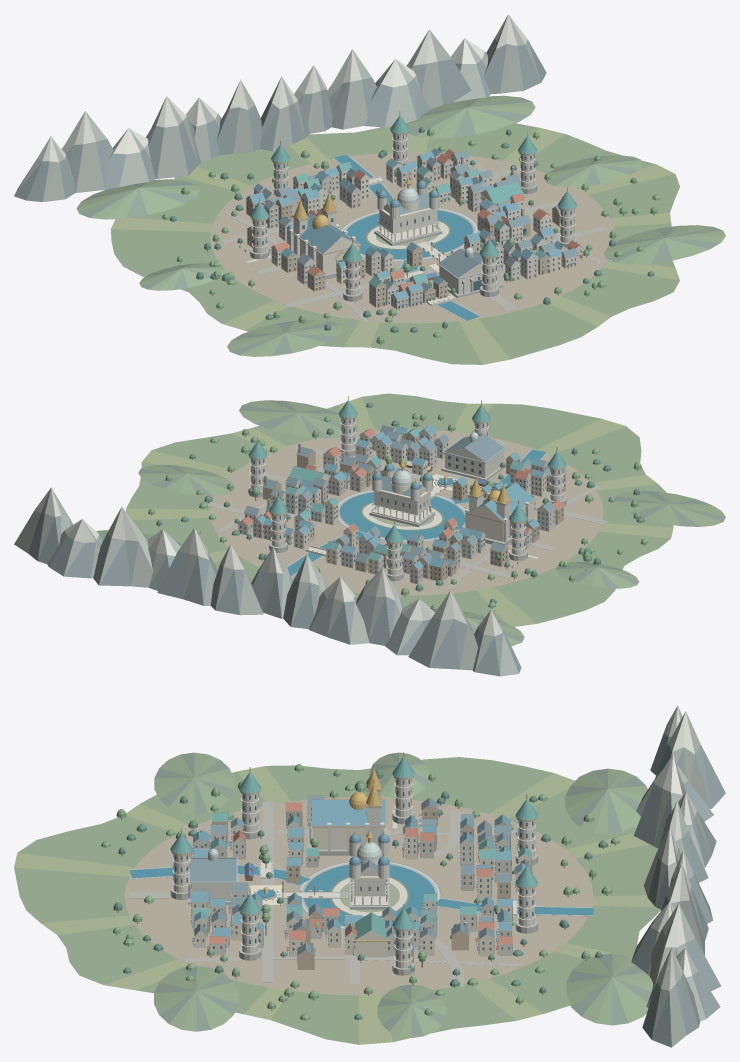
The model's file is millishion.glb.
3 renders of one model, top to bottom at view 1: azimuth 30°, elevation 25°; view 2: azimuth 150°, elevation 25°; view 3: azimuth 270°, elevation 25°, orthographic. The views are drawn at different scales.
Parts seen in each view (by area): view 1: Millishion_original_reconstruction; view 2: Millishion_original_reconstruction; view 3: Millishion_original_reconstruction.
Boxes of the visible parts, x1,y1,x2,y2 form: Millishion_original_reconstruction: [14, 14, 725, 364]; Millishion_original_reconstruction: [14, 393, 725, 676]; Millishion_original_reconstruction: [14, 705, 725, 1047].
Bounding box in the file's own units: 333 × 42.28 × 337.
